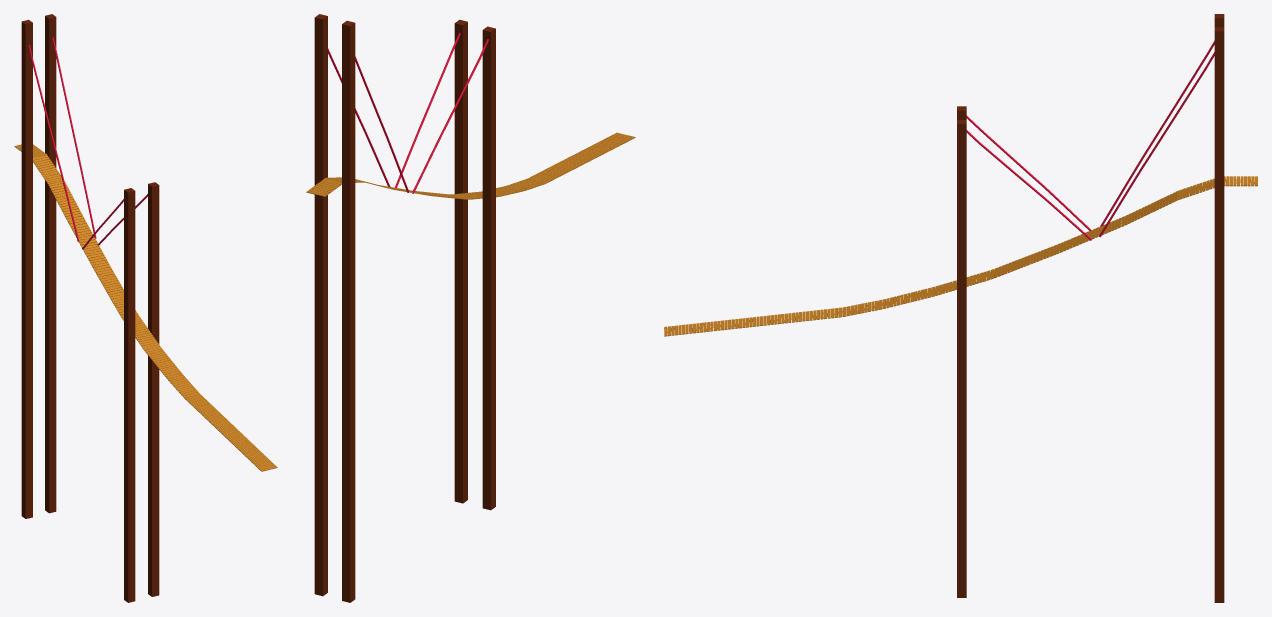
Rendered from test_de_pont_coline.fbx.
3 views of the same model, side by side, from view 1: azimuth 30°, elevation 25°; view 2: azimuth 150°, elevation 25°; view 3: azimuth 270°, elevation 25° (orthographic). The views are drawn at different scales.
Visible parts, largest first — view 1: test de pont coline; view 2: test de pont coline; view 3: test de pont coline.
Boxes of the visible parts, left/top/right/bottom form: test de pont coline: left=14, top=14, right=277, bottom=602; test de pont coline: left=306, top=14, right=635, bottom=602; test de pont coline: left=664, top=14, right=1257, bottom=602.
Bounding box in the file's own units: 1095 × 13013 × 12251.
